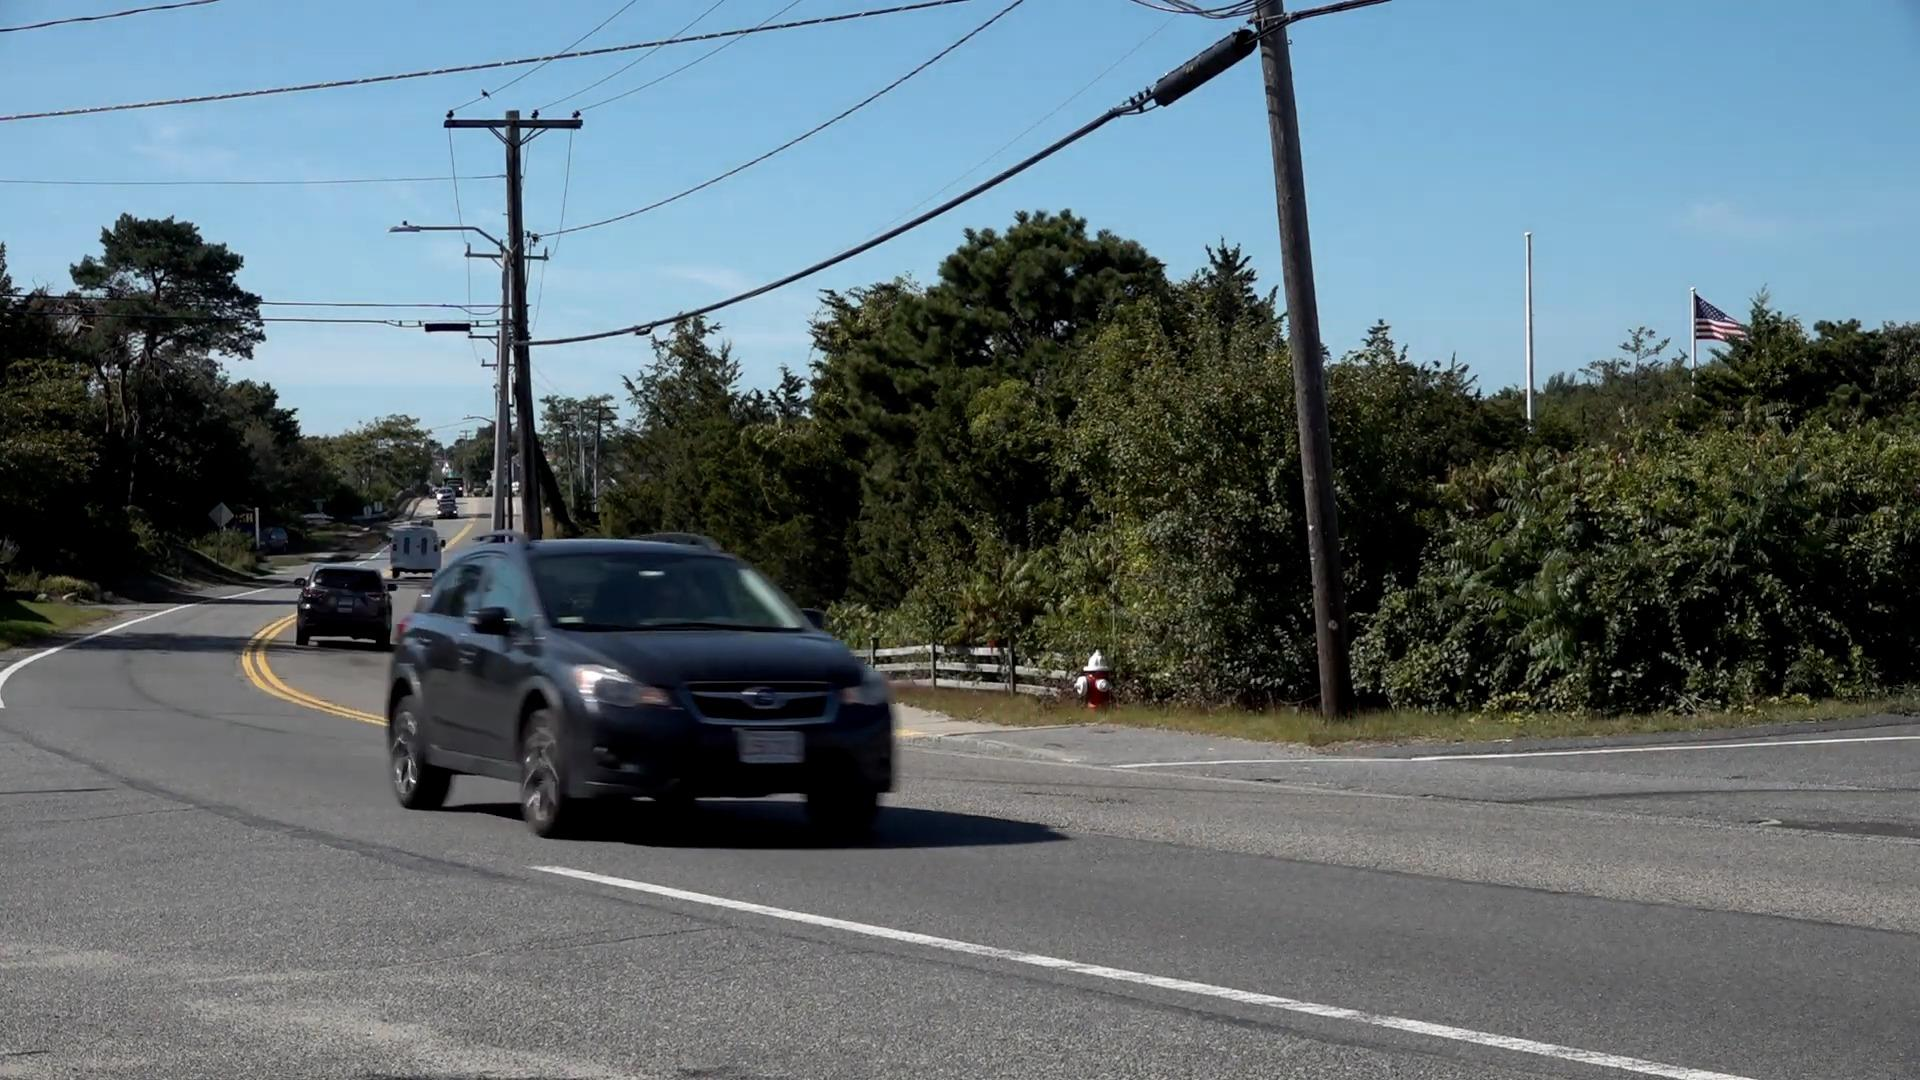suv: (400, 535, 903, 843), (295, 567, 394, 650)
